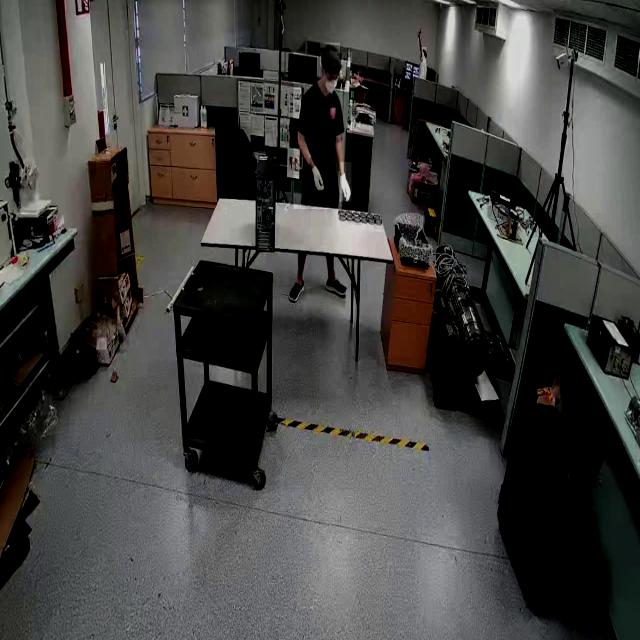face_mask: (325, 68, 341, 94)
hand_glove: (310, 157, 328, 200), (340, 162, 352, 202)
head_nohelmet: (320, 42, 340, 68), (421, 47, 427, 54)
person: (294, 52, 352, 210)
shoes: (324, 272, 348, 300), (287, 276, 307, 303)
